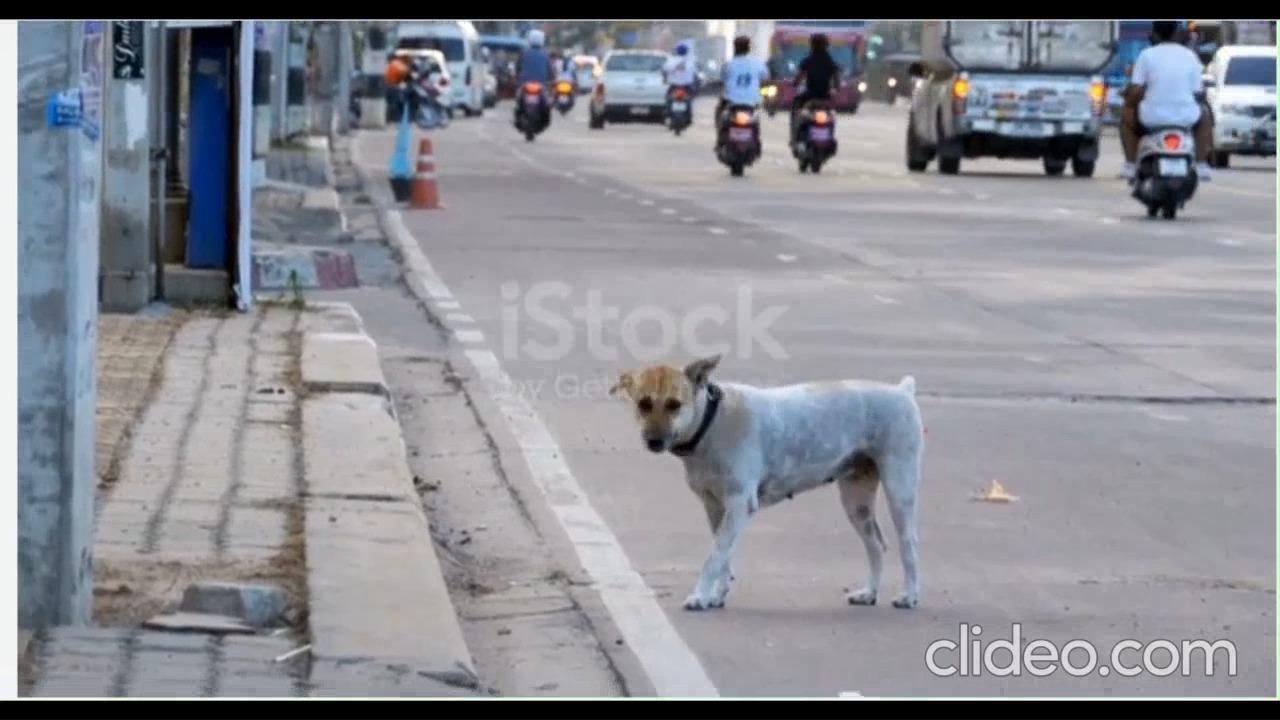dog: (611, 352, 932, 608)
